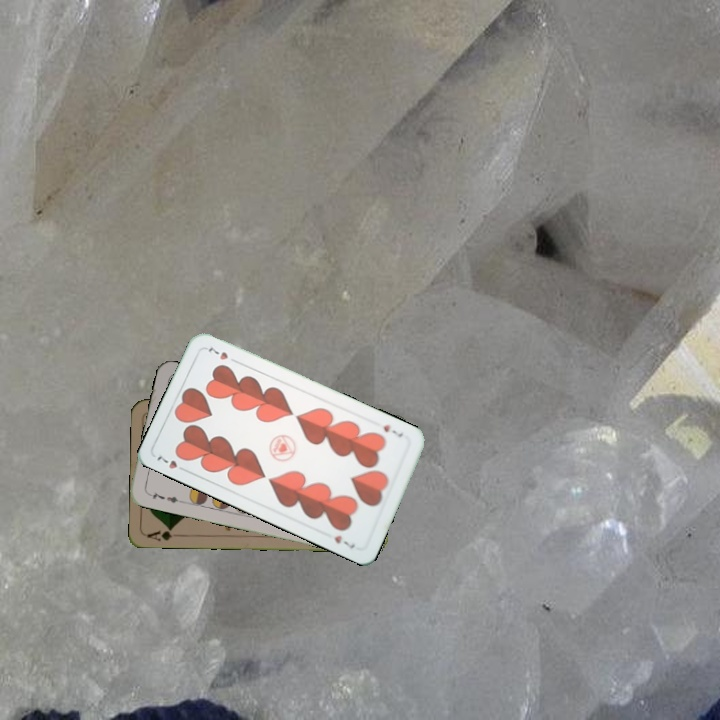E7: (143, 488, 184, 506)
GA: (143, 524, 184, 543)
H7: (153, 451, 190, 475), (379, 420, 406, 440)
